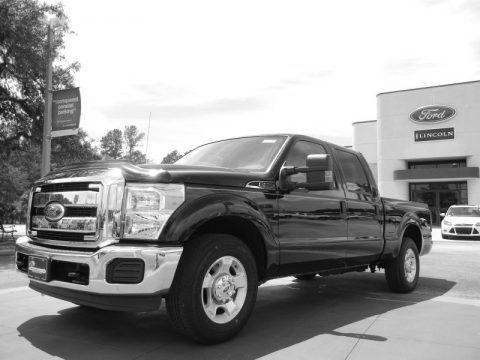car: (13, 134, 435, 344)
